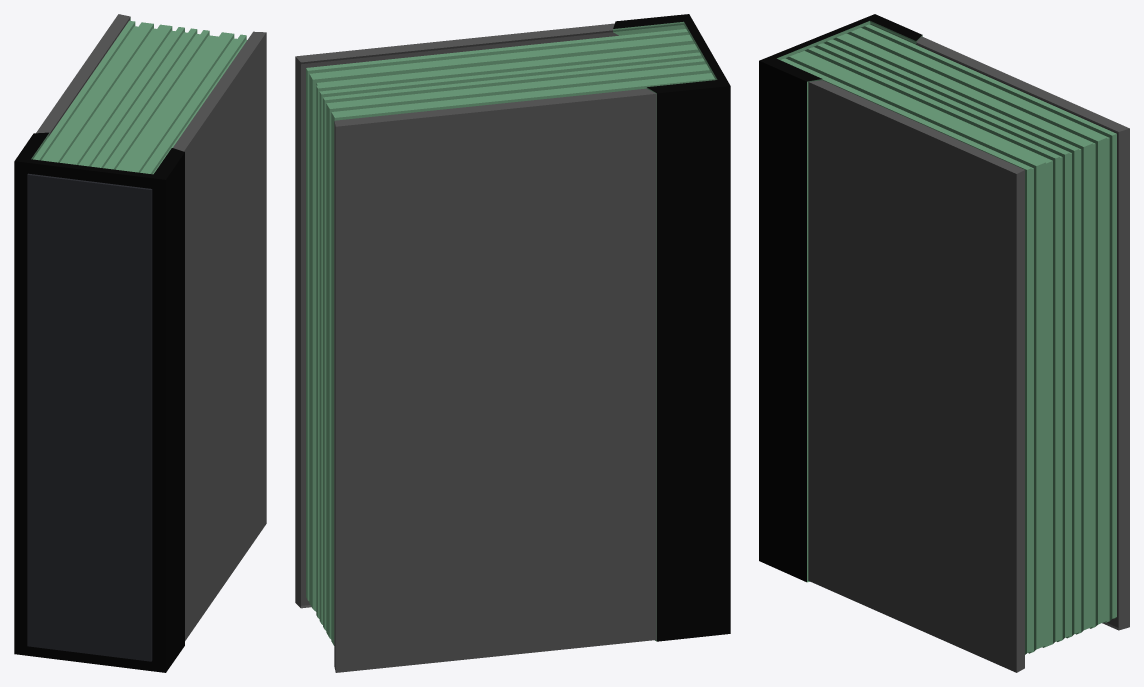
File: ThirdShelfBook6.fbx
3 renders of one model, left to right at view 1: azimuth 30°, elevation 25°; view 2: azimuth 150°, elevation 25°; view 3: azimuth 270°, elevation 25°, orthographic. The views are drawn at different scales.
Parts seen in each view (by area): view 1: BigBook.002; view 2: BigBook.002; view 3: BigBook.002.
Part boxes in pixels (bbox=[...]): BigBook.002: bbox=[14, 14, 266, 672]; BigBook.002: bbox=[295, 14, 730, 672]; BigBook.002: bbox=[759, 14, 1129, 672].
Bounding box in the file's own units: 129 × 189 × 127.
